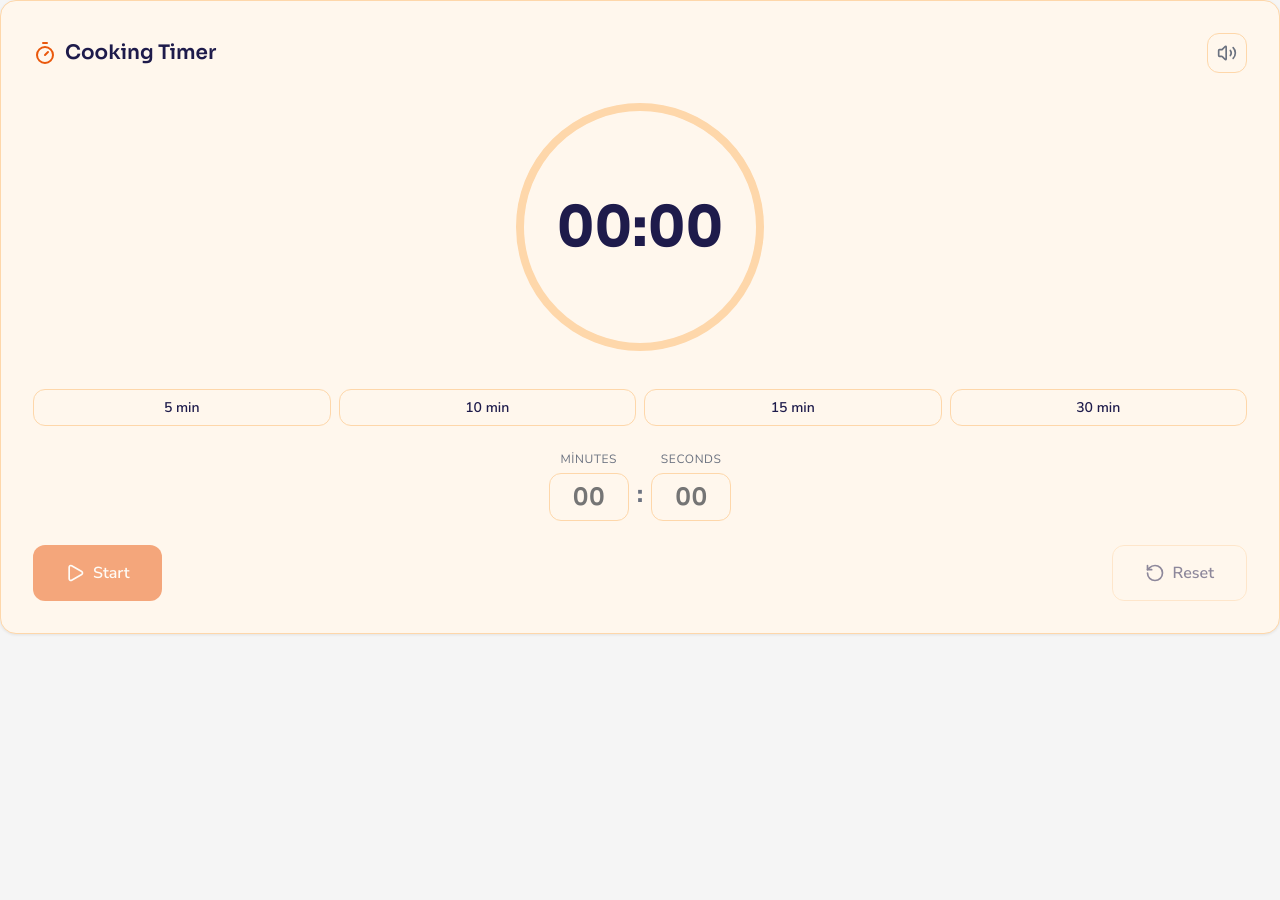
Test case: Timer Component › Preset Buttons › 5 min preset sets timer to 5 minutes and starts
What coordinates should you click on to do the following:
click the button with aria-label "set timer to 5 min"
I would click on:
 (182, 408)
Its box is [33, 389, 330, 426].
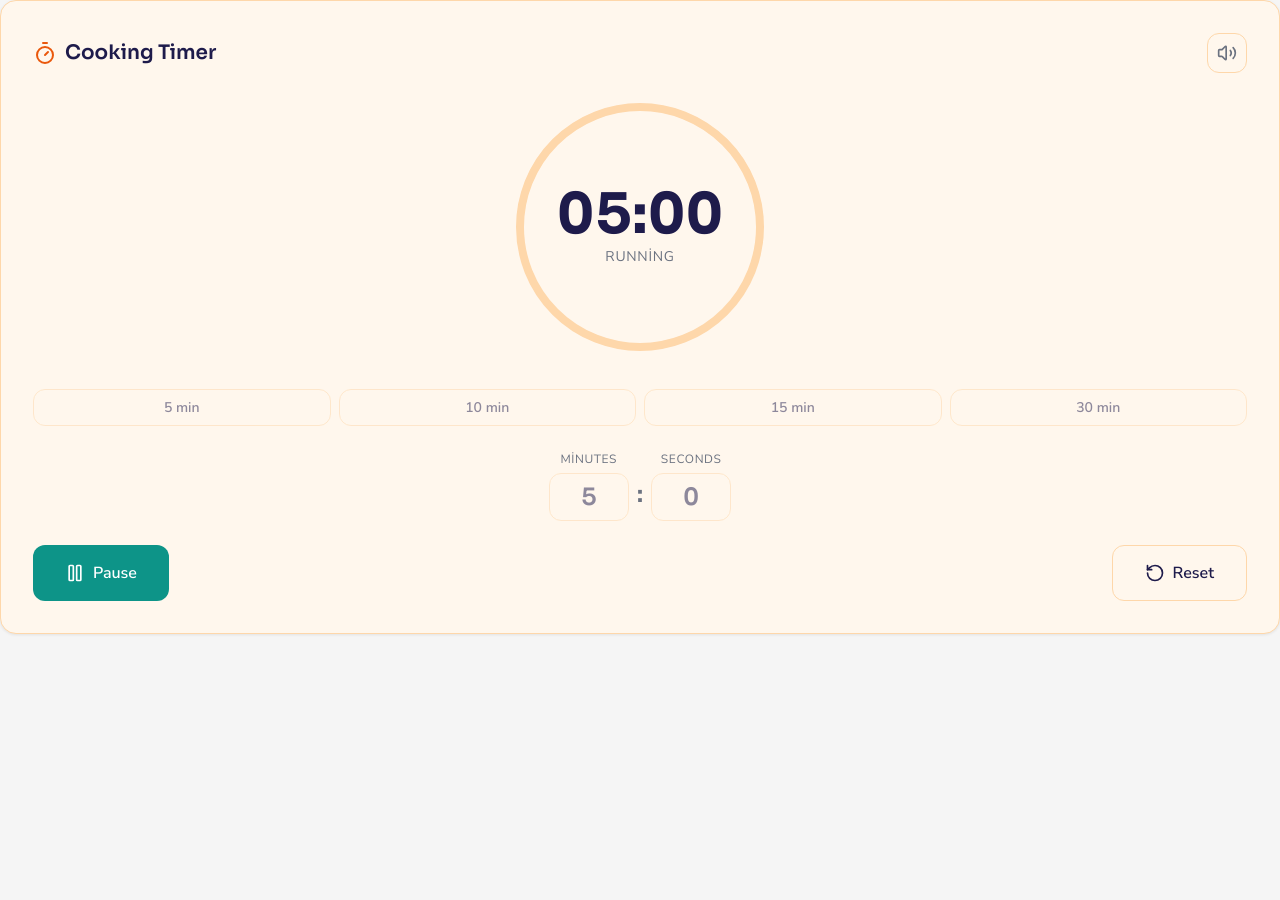
Expected: the text "05:00" is shown, [557, 186, 723, 242]
Expected: the text "Running" is shown, [605, 246, 675, 268]
